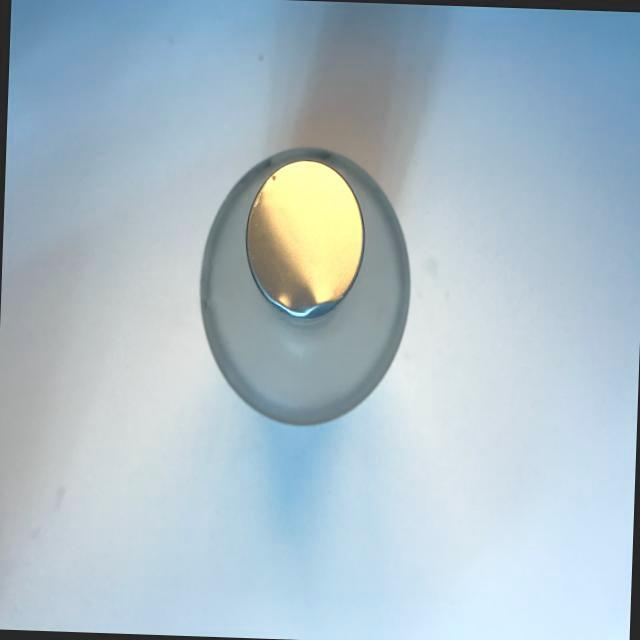glass: (178, 92, 460, 456)
